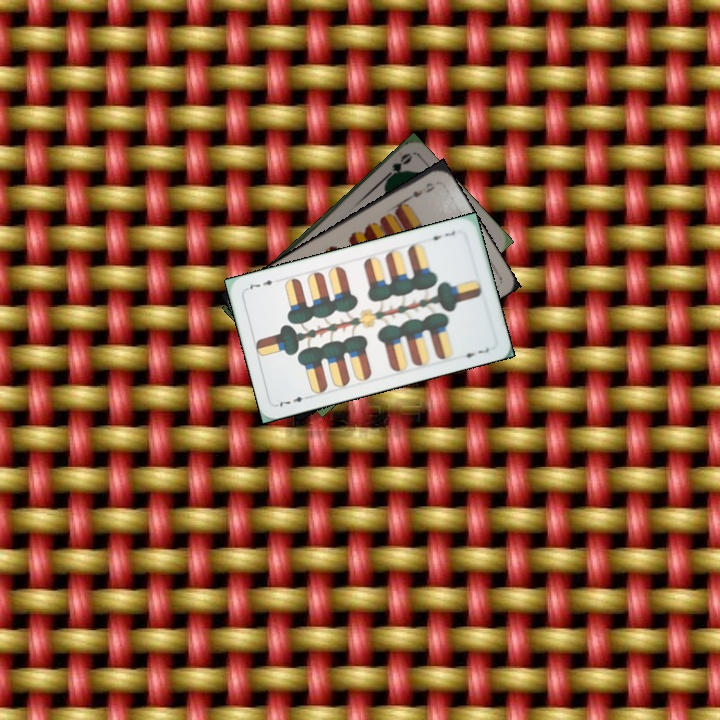E7: (273, 391, 313, 409), (424, 227, 458, 243)
E9: (401, 179, 437, 204)
GO: (380, 149, 414, 184)
